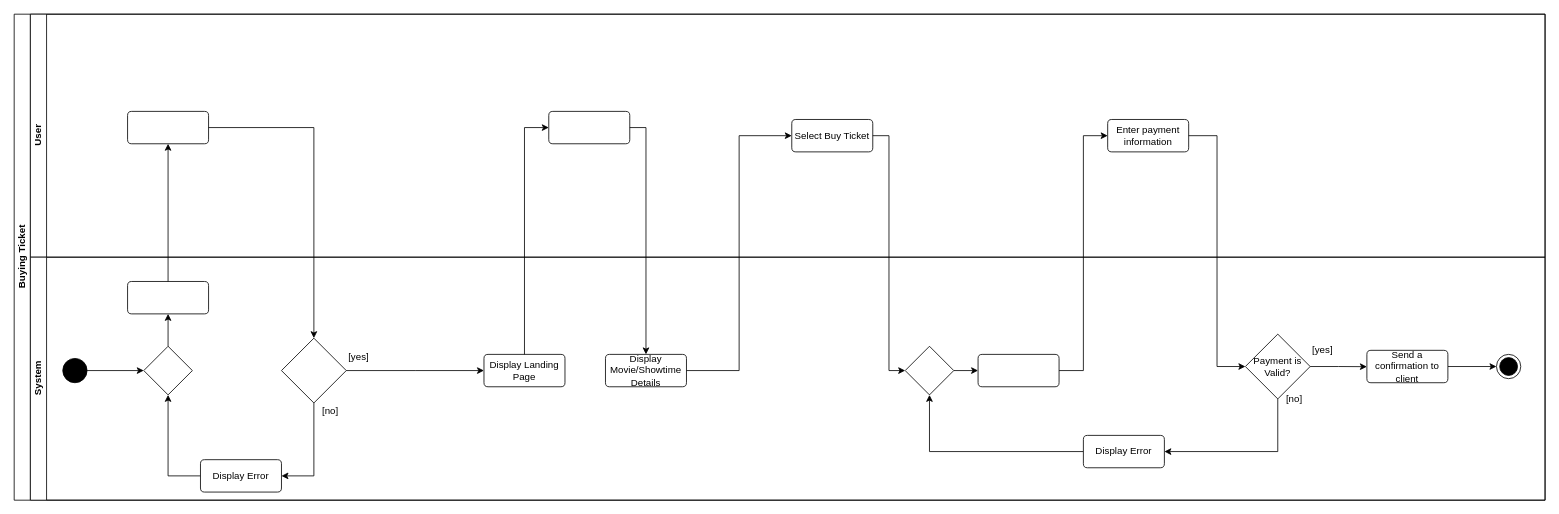
Some shapes in this 1559 by 514 pixel diagram are drawn without their labels. The shapes that lost their labels are listed below. From the top down, each one's centre as x and y in pixels, then its label:
the point at 168,127: Enter Credentials
the point at 589,127: Select Movie/Showtime
the point at 168,297: Show Login Page
the point at 313,370: Credentials are valid?
the point at 1018,370: Display Checkout with total
